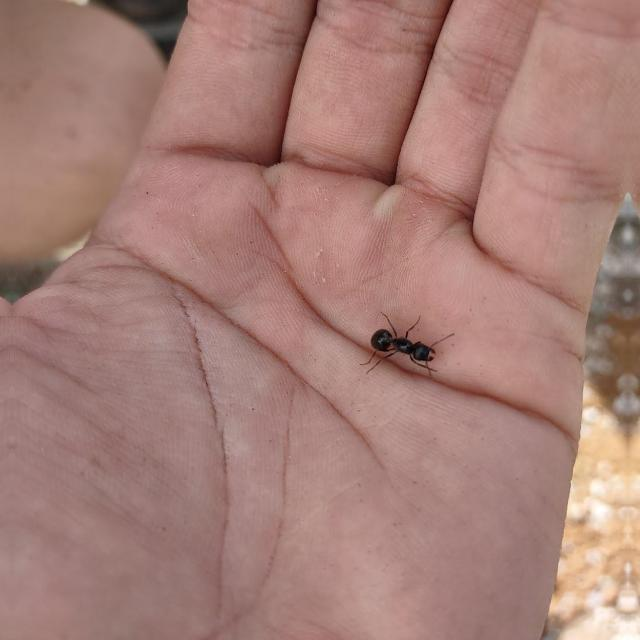Messor: (361, 312, 442, 371)
